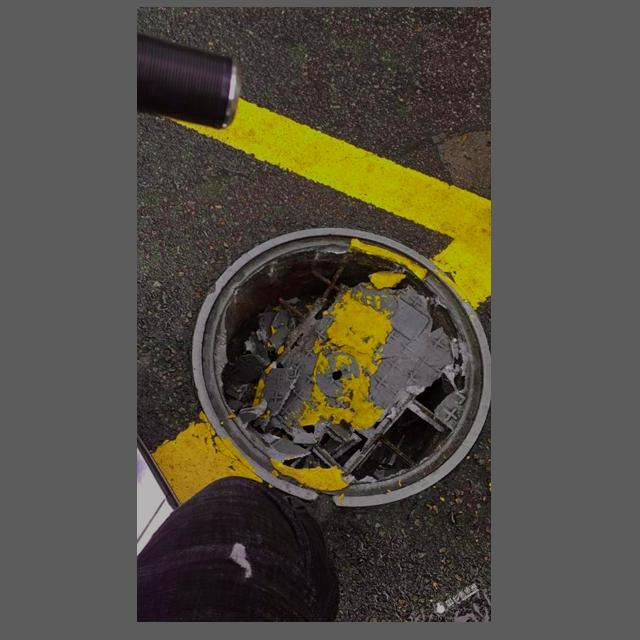broke: (176, 207, 476, 503)
